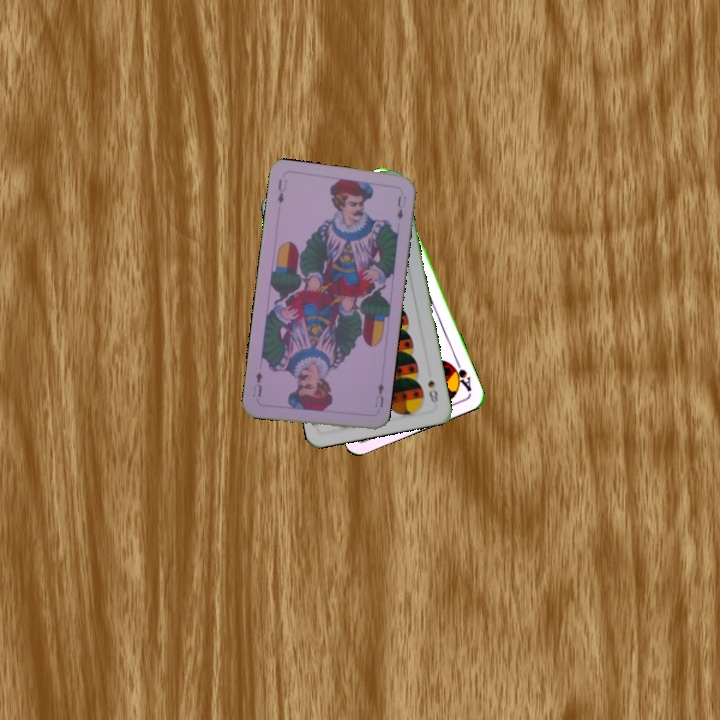EU: (274, 175, 290, 206), (371, 378, 386, 410)
S8: (424, 376, 441, 405)
SA: (447, 356, 475, 394)
